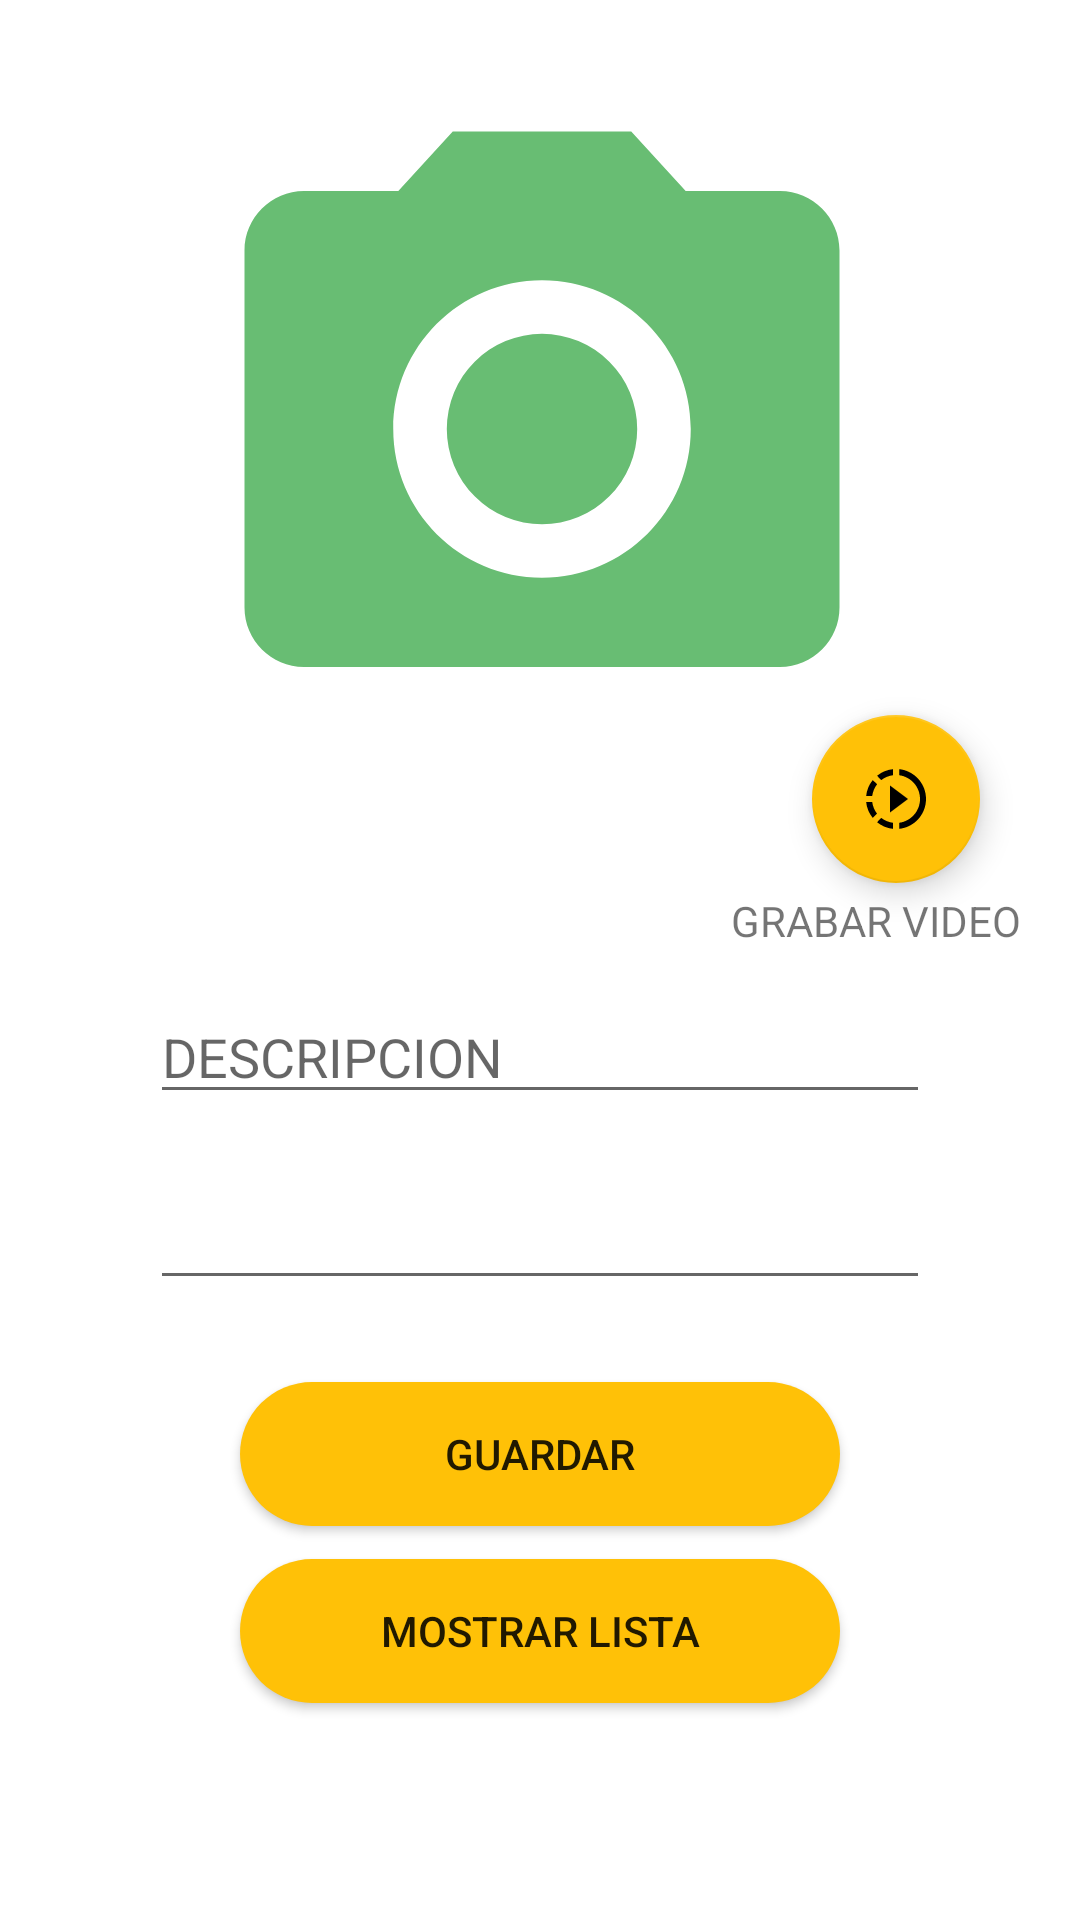

Point at icon controls on the screen. Image size 1080*1920, points as (x=x, y=y).
slow motion video: (x=896, y=799)
